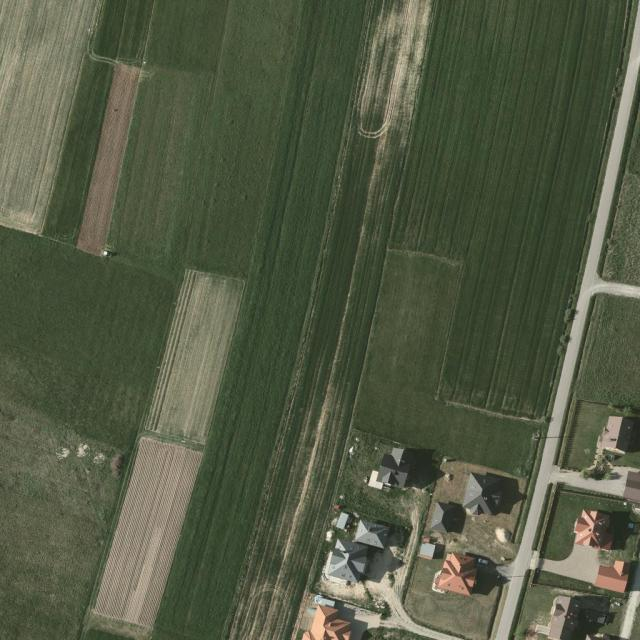agricultural_land: (0, 2, 638, 640), (573, 290, 640, 409), (605, 128, 640, 285)
metalled_road: (553, 466, 625, 498), (595, 269, 640, 298)
